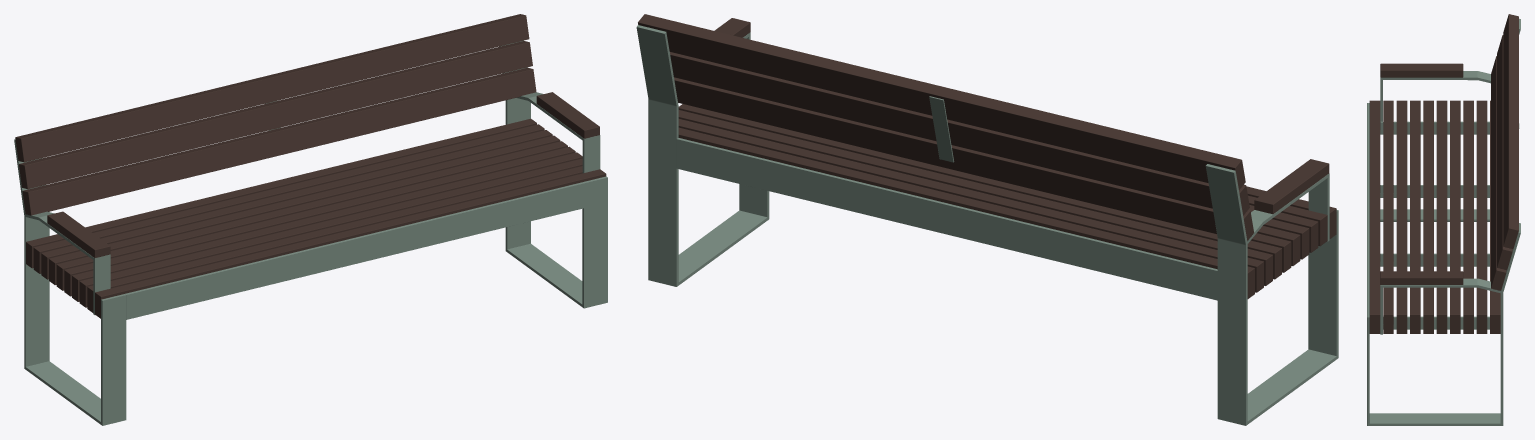
3 views of the same model, side by side, from view 1: azimuth 30°, elevation 25°; view 2: azimuth 150°, elevation 25°; view 3: azimuth 270°, elevation 25° (orthographic). The views are drawn at different scales.
Visible parts, largest first — view 1: K6_1900; view 2: K6_1900; view 3: K6_1900.
Part boxes in pixels (x1,y1,x2,y2): K6_1900: (14,14,607,425); K6_1900: (636,14,1338,425); K6_1900: (1367,14,1520,425).
Bounding box in the file's own units: 1.9 × 0.8176 × 0.576.
